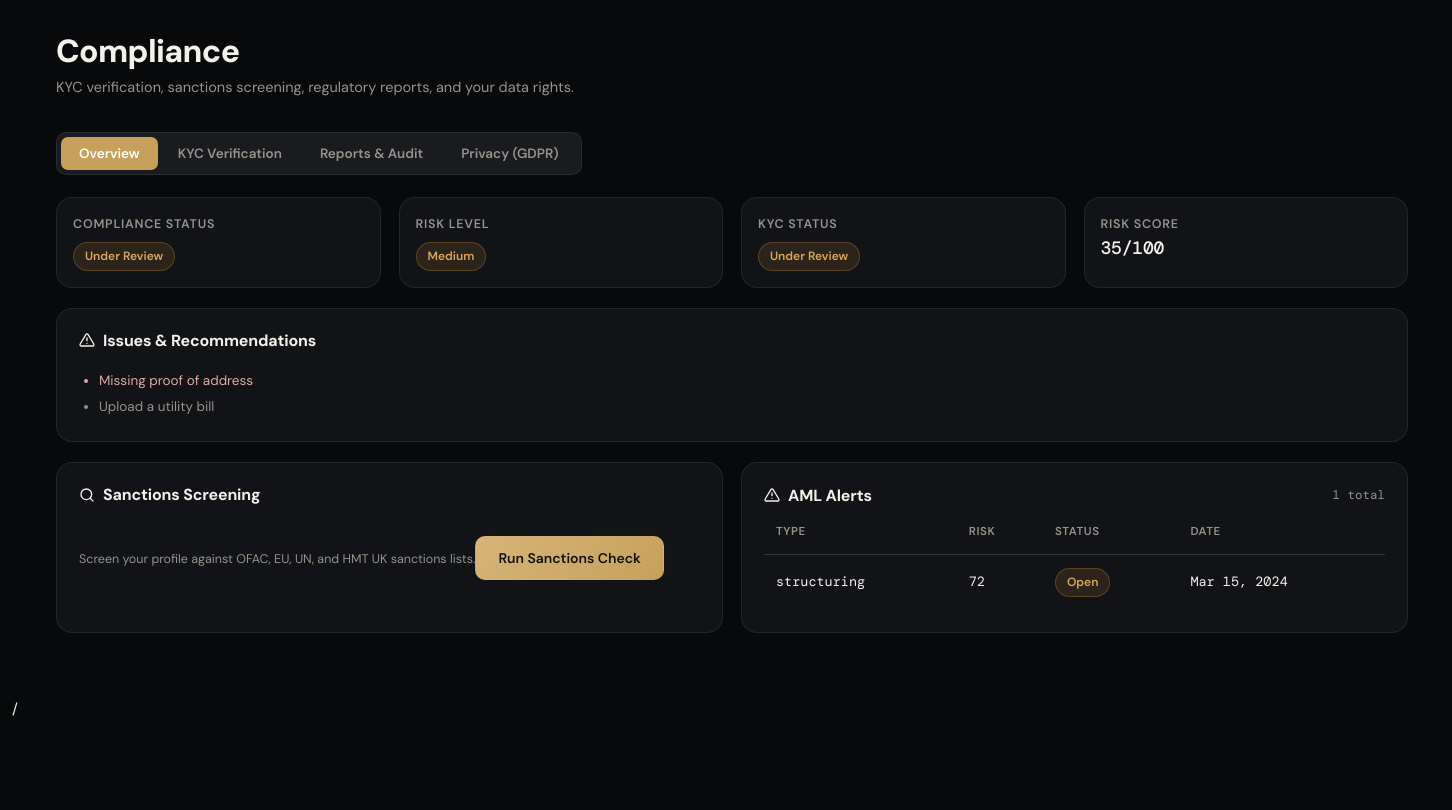
overview tab › sanctions › does not crash when the response omits lists_checked
The image size is (1452, 810).
Expected: the heading "Sanctions Screening" is shown, [79, 485, 260, 504]
Click the button "Run Sanctions Check".
click(570, 558)  # box [475, 536, 664, 580]
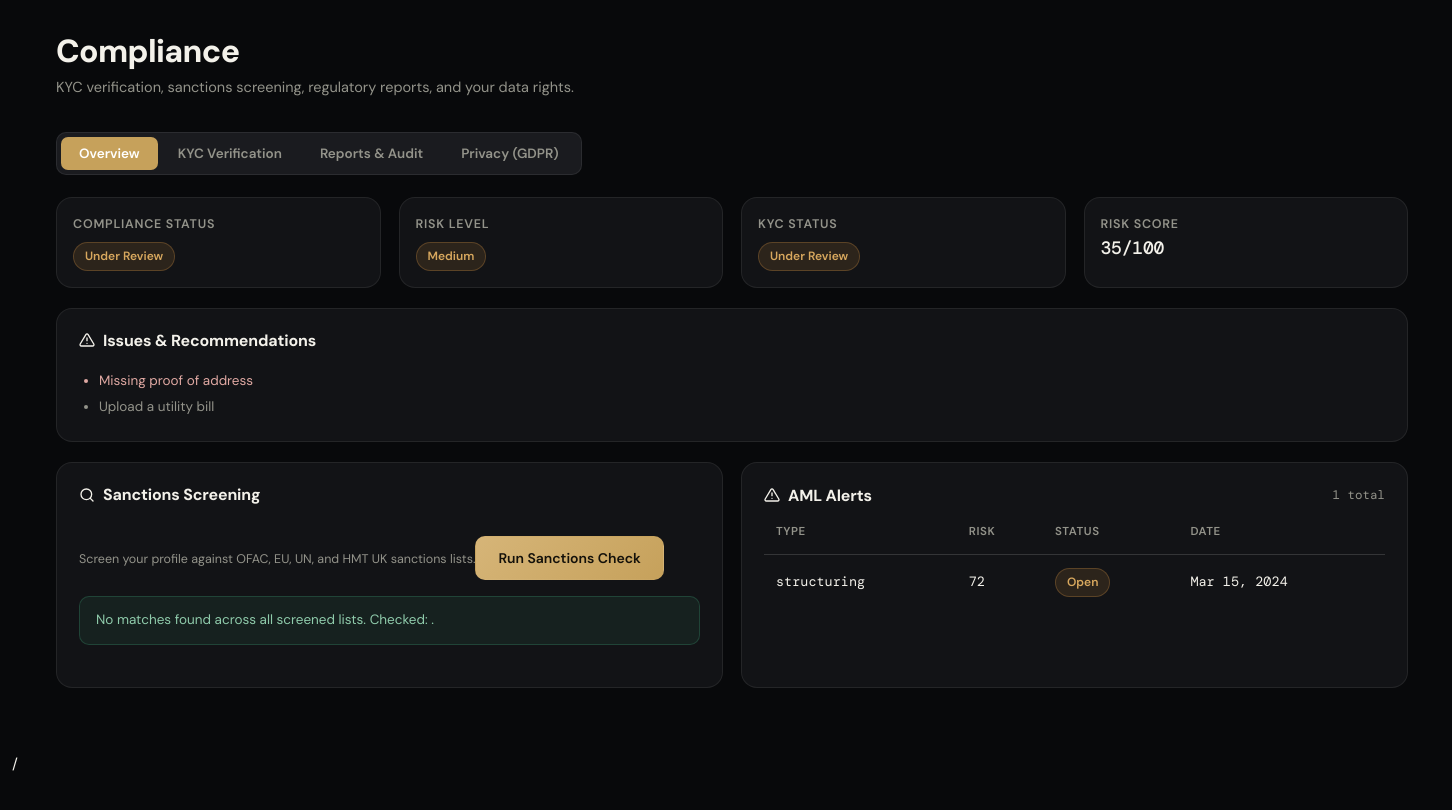
Expected: the text "No matches found across all screened lists. Checked: ." is shown, [79, 596, 700, 645]
